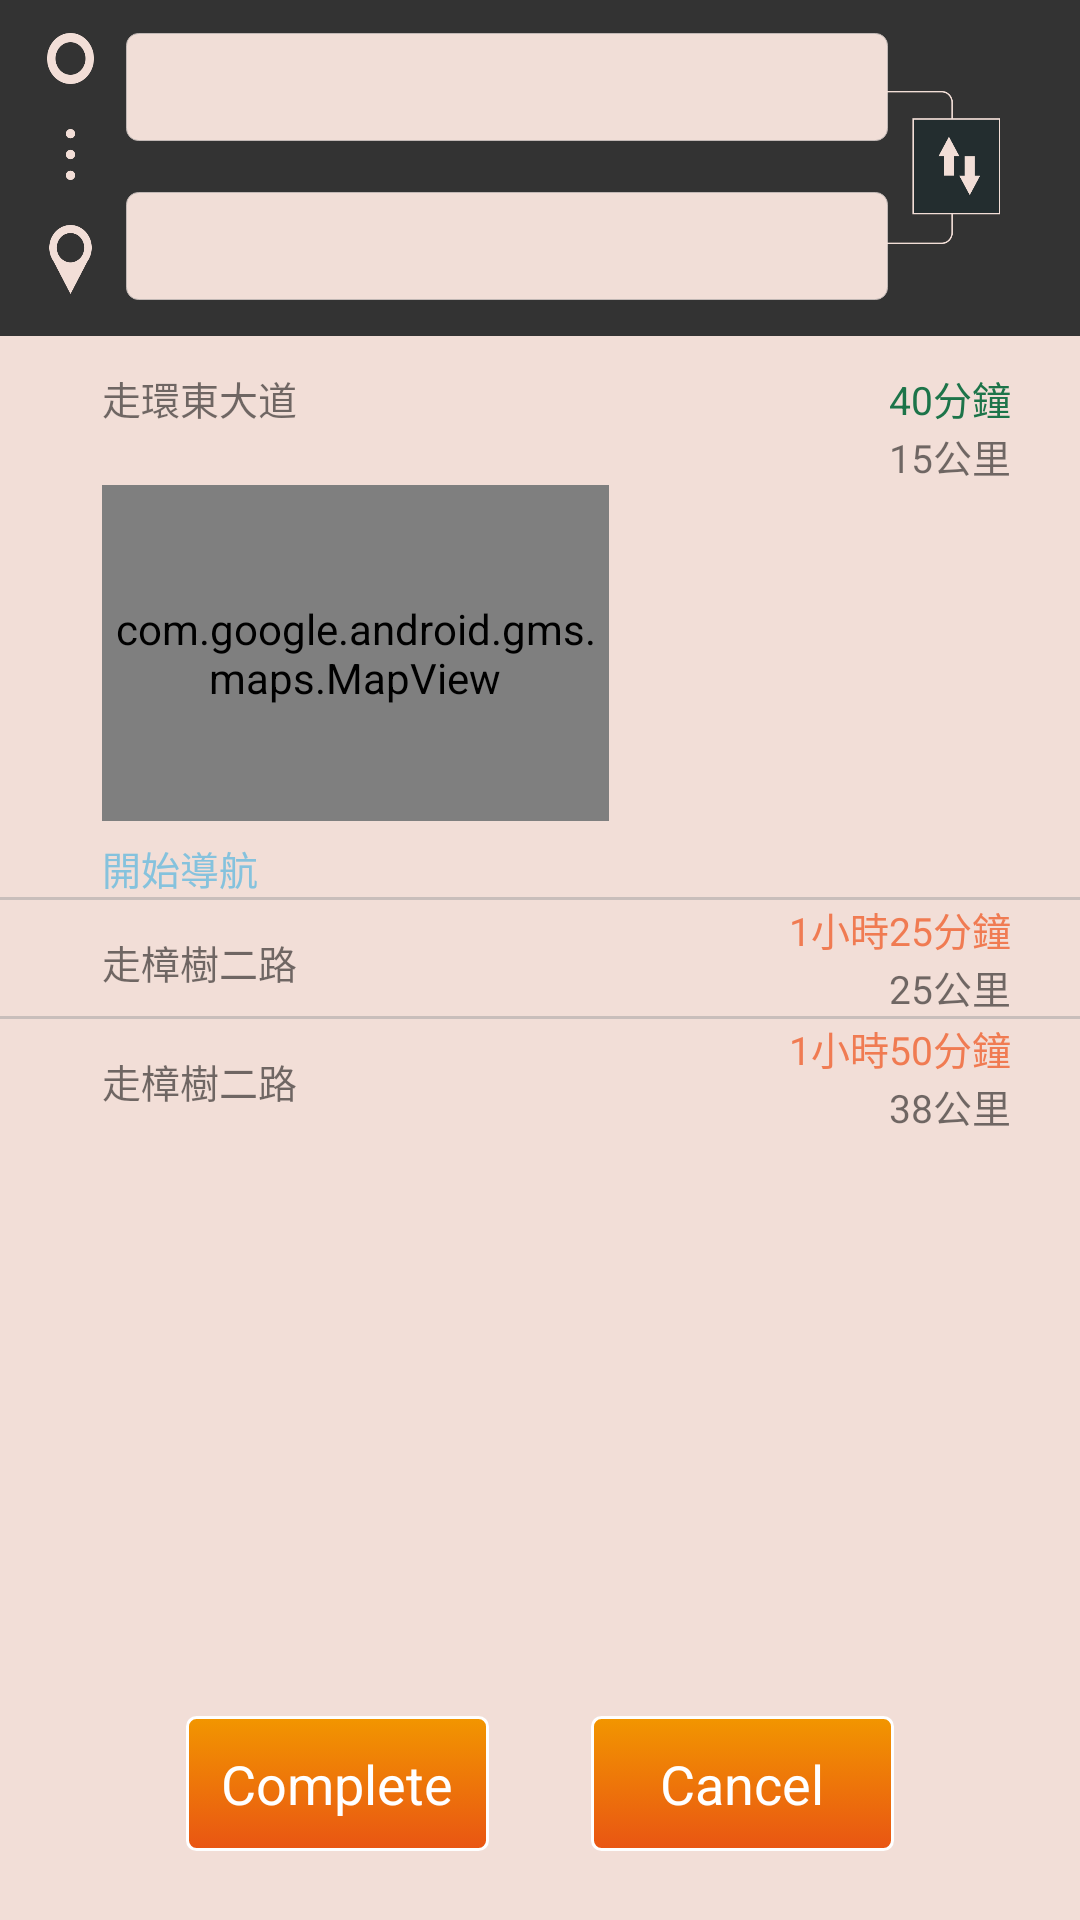

Named icons in this screenshot (1080px x 1920px) and their centers, [x,y]:
dot: [70,154]
